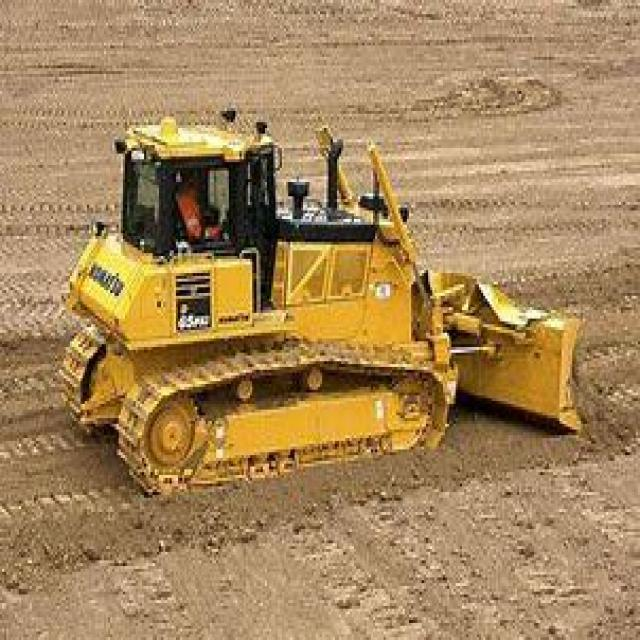Bulldozer: (57, 108, 598, 478)
